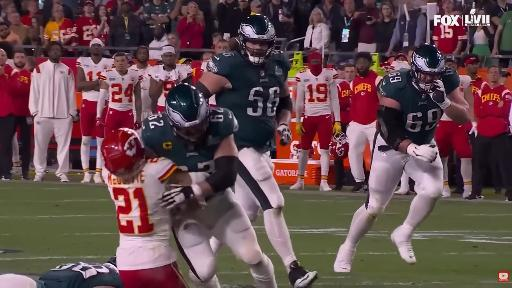Helmet: (166, 84, 208, 142), (101, 128, 145, 177), (239, 15, 275, 64), (411, 44, 445, 92), (330, 133, 348, 159), (107, 256, 116, 267), (308, 146, 314, 159)
Jersey: (103, 158, 177, 270), (208, 52, 290, 151), (142, 107, 238, 171), (378, 70, 443, 145), (39, 262, 122, 287), (296, 69, 337, 115), (99, 70, 139, 110), (150, 65, 185, 106), (129, 65, 153, 111), (76, 57, 113, 81), (176, 64, 193, 80), (389, 61, 410, 71), (460, 76, 471, 94), (201, 60, 210, 73), (201, 60, 210, 72)
Player: (197, 15, 317, 287), (334, 44, 469, 272), (142, 84, 276, 287), (101, 128, 186, 287), (291, 52, 341, 190), (76, 39, 113, 182), (346, 52, 381, 192), (0, 258, 126, 287), (97, 53, 141, 135), (435, 114, 472, 197), (149, 45, 183, 112), (176, 60, 193, 84)
